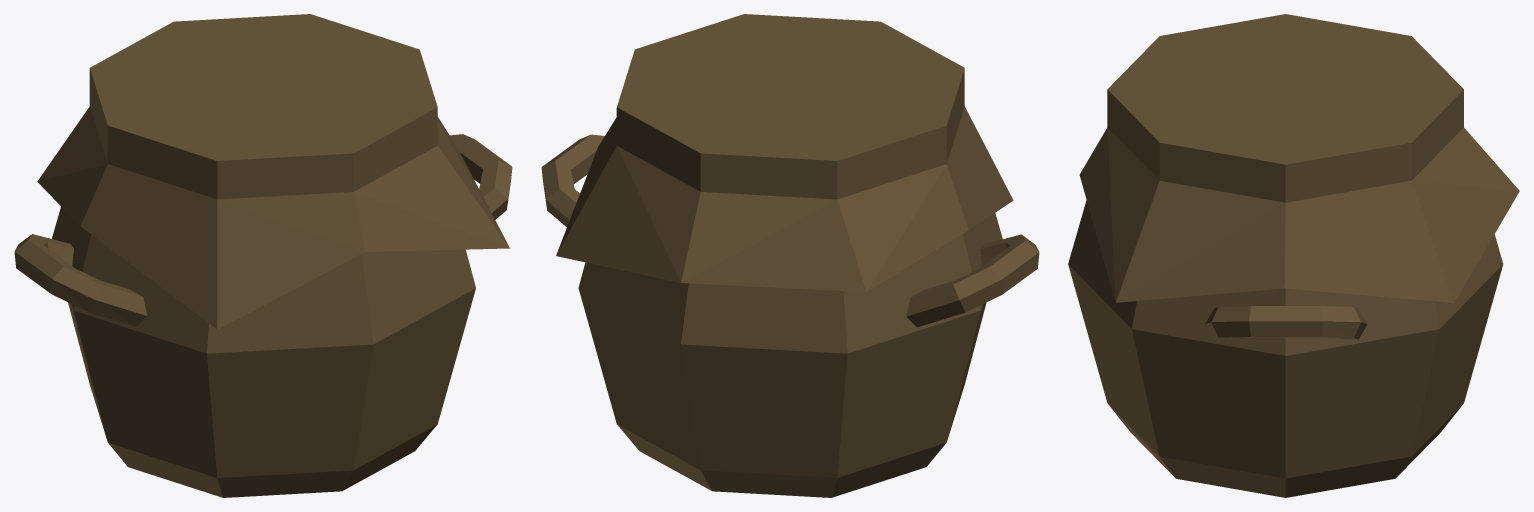
The model's file is ITFO_HONEY.OBJ.
3 views of the same model, side by side, from view 1: azimuth 30°, elevation 25°; view 2: azimuth 150°, elevation 25°; view 3: azimuth 270°, elevation 25° (orthographic).
Visible parts, largest first — view 1: ITFO_HONEY; view 2: ITFO_HONEY; view 3: ITFO_HONEY.
Part boxes in pixels (x1,y1,x2,y2): ITFO_HONEY: (14,14,512,497); ITFO_HONEY: (541,14,1039,497); ITFO_HONEY: (1068,14,1519,497).
Size of the model in its own units: 0.3306 by 0.2377 by 0.2838.
